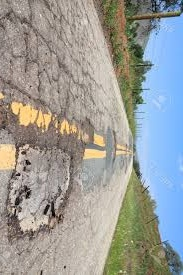pothole: (3, 146, 78, 243), (101, 126, 118, 179)
